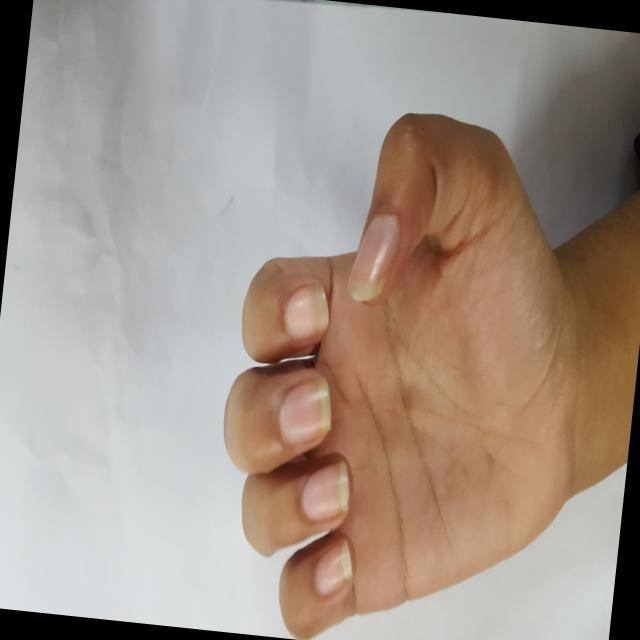Nail: (515, 56, 553, 149), (461, 73, 494, 154), (566, 25, 601, 98), (432, 10, 479, 46), (615, 29, 640, 64)
